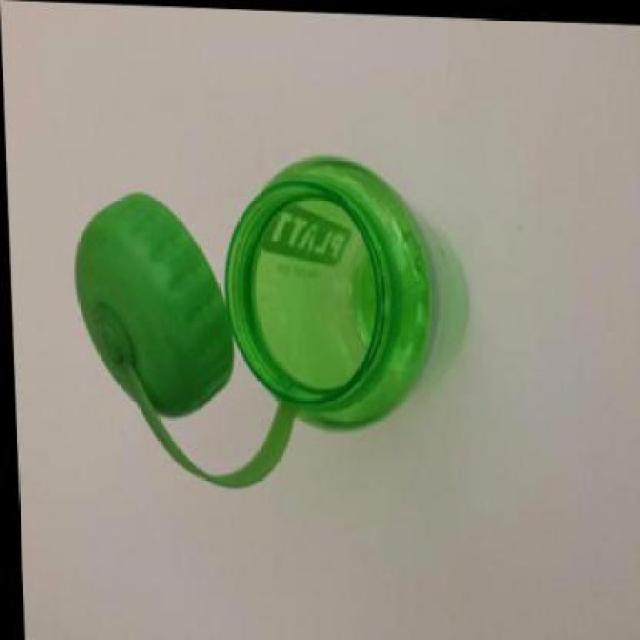Plastic: (70, 149, 458, 492)
